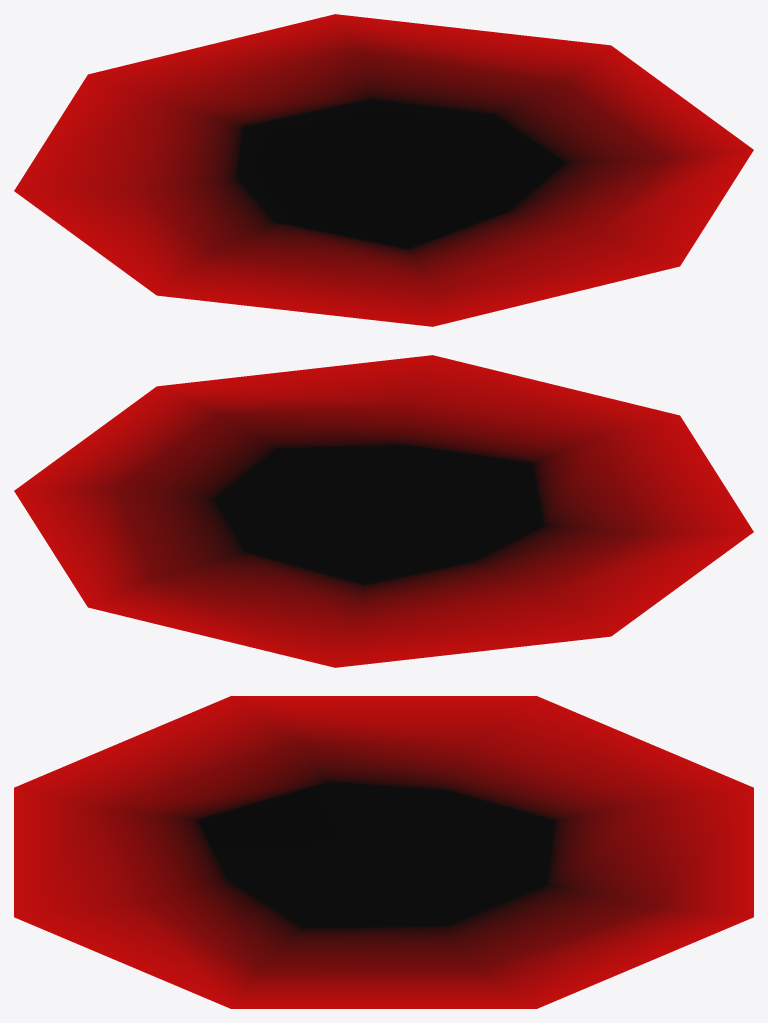
3 renders of one model, top to bottom at view 1: azimuth 30°, elevation 25°; view 2: azimuth 150°, elevation 25°; view 3: azimuth 270°, elevation 25°, orthographic. The views are drawn at different scales.
Parts seen in each view (by area): view 1: G:\FFXIV-MapTools\exports\g3f3\bg\ex2\01_gyr_g3\fld\g3f3\bgp; view 2: G:\FFXIV-MapTools\exports\g3f3\bg\ex2\01_gyr_g3\fld\g3f3\bgp; view 3: G:\FFXIV-MapTools\exports\g3f3\bg\ex2\01_gyr_g3\fld\g3f3\bgp.
Boxes of the visible parts, bbox=[...] form: G:\FFXIV-MapTools\exports\g3f3\bg\ex2\01_gyr_g3\fld\g3f3\bgp: bbox=[14, 14, 753, 326]; G:\FFXIV-MapTools\exports\g3f3\bg\ex2\01_gyr_g3\fld\g3f3\bgp: bbox=[14, 355, 753, 667]; G:\FFXIV-MapTools\exports\g3f3\bg\ex2\01_gyr_g3\fld\g3f3\bgp: bbox=[14, 696, 753, 1008].
Size of the model in its own units: 17.56 by 4.77e-07 by 17.56.
